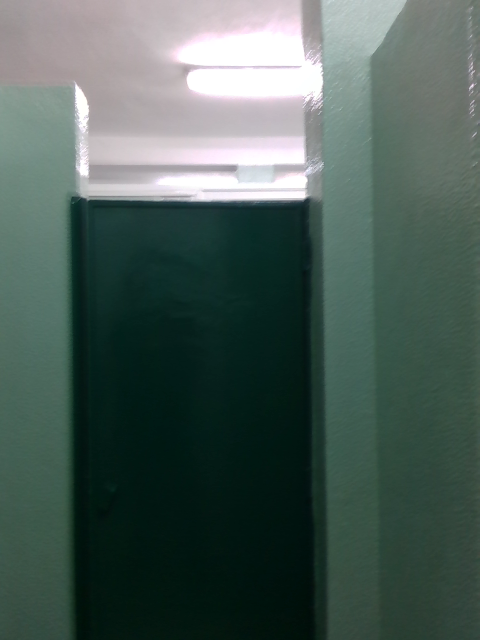closed: (58, 198, 314, 634)
